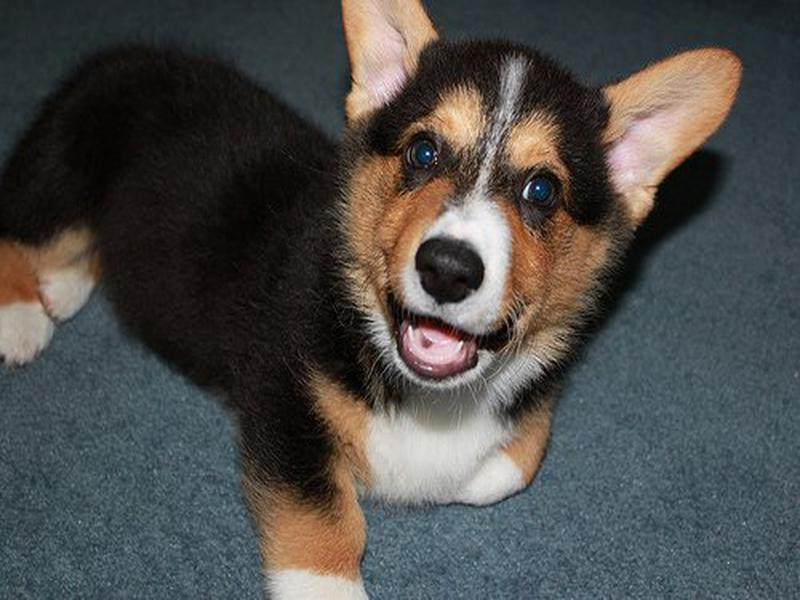corgi: (329, 2, 748, 392)
